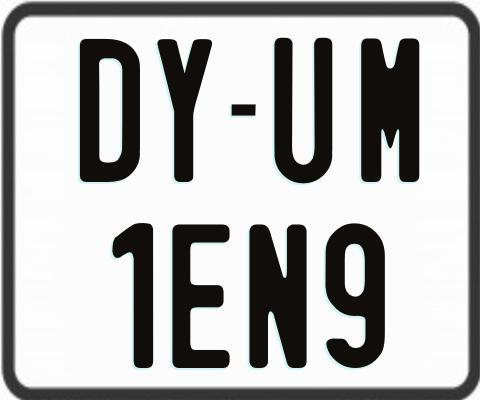1: (111, 221, 157, 368)
9: (324, 221, 385, 370)
D: (77, 36, 137, 179)
E: (170, 224, 231, 372)
M: (361, 38, 420, 184)
N: (249, 224, 308, 373)
U: (271, 37, 329, 187)
Y: (157, 36, 216, 185)
